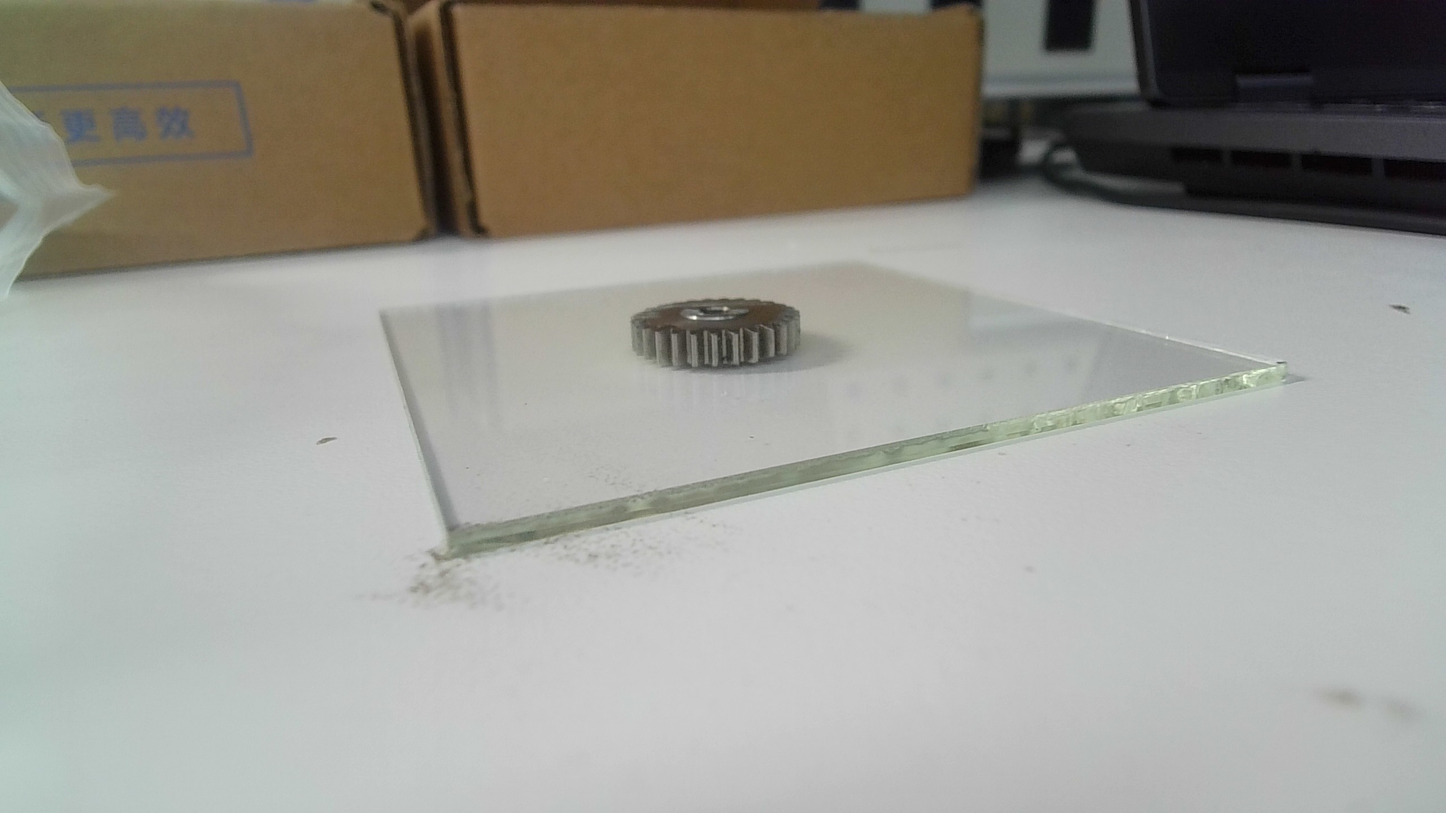gear: (628, 293, 804, 374)
